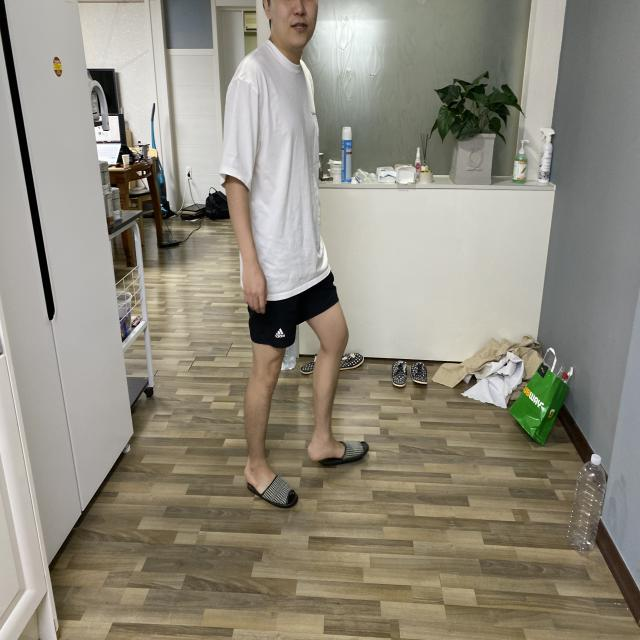no-boots: (306, 426, 386, 482), (239, 459, 300, 526)
